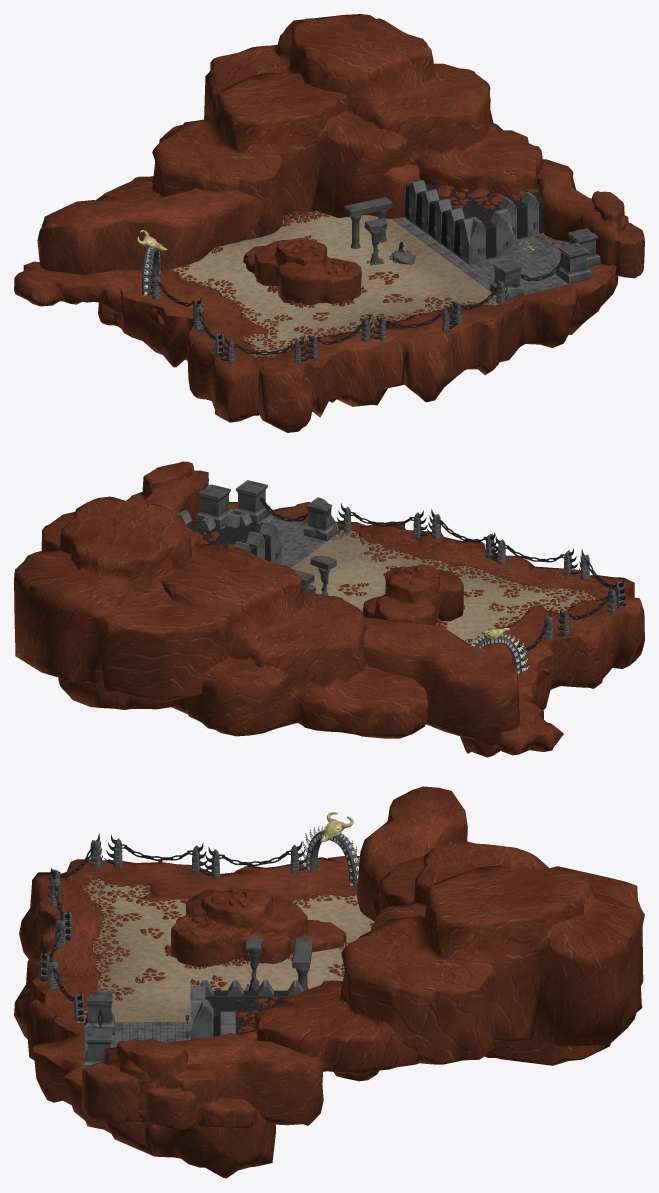
The picture shows the model from 3 angles, top to bottom: view 1: azimuth 30°, elevation 25°; view 2: azimuth 150°, elevation 25°; view 3: azimuth 270°, elevation 25°; orthographic projection. The views are drawn at different scales.
Visible parts, largest first — view 1: CaveWalls4D137; view 2: CaveWalls4D137; view 3: CaveWalls4D137.
Boxes of the visible parts, left/top/right/bottom form: CaveWalls4D137: left=14, top=14, right=644, bottom=432; CaveWalls4D137: left=14, top=461, right=644, bottom=757; CaveWalls4D137: left=14, top=786, right=644, bottom=1178.
Bounding box in the file's own units: 384 × 137 × 346.
